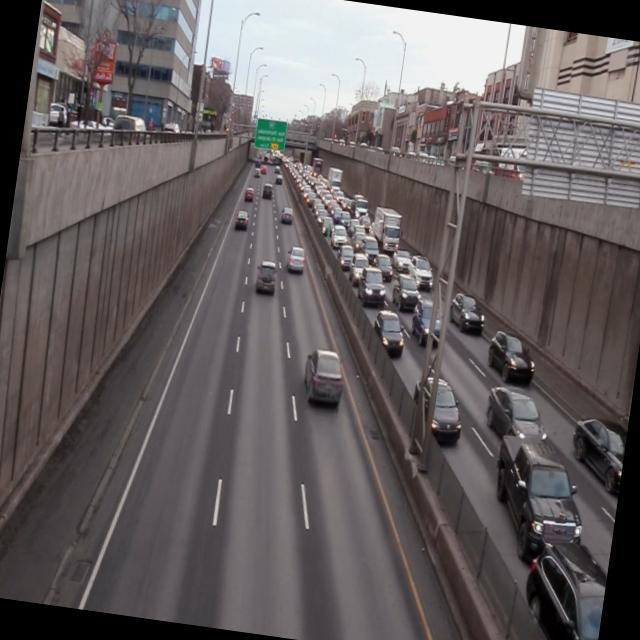Vehicle: (485, 434, 593, 558), (515, 536, 611, 640), (479, 383, 555, 444), (567, 415, 629, 488), (407, 374, 467, 444), (300, 346, 348, 411), (486, 328, 538, 388), (411, 298, 448, 352), (371, 310, 408, 358), (448, 292, 488, 336), (369, 207, 404, 256), (390, 274, 423, 316), (356, 268, 388, 308), (252, 259, 280, 297), (406, 255, 436, 290), (370, 252, 396, 282), (348, 252, 369, 284), (286, 245, 307, 276), (392, 248, 412, 273), (234, 209, 249, 231), (280, 206, 294, 227)
